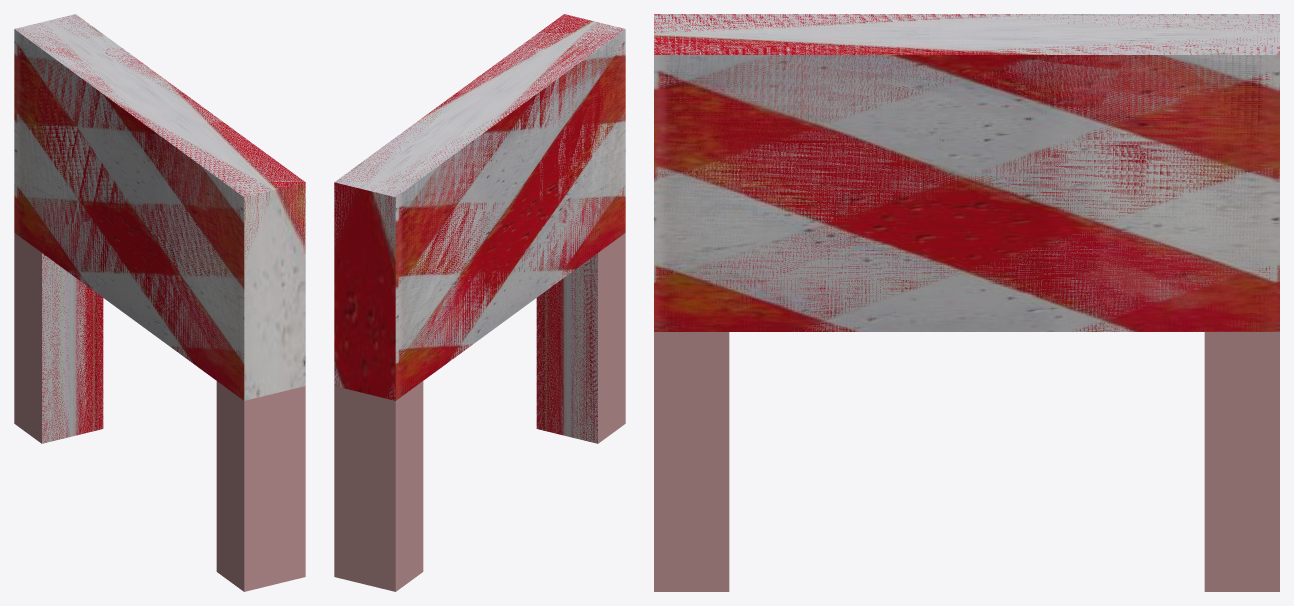
The model's file is slide_block.fbx.
The picture shows the model from 3 angles, left to right: view 1: azimuth 30°, elevation 25°; view 2: azimuth 150°, elevation 25°; view 3: azimuth 270°, elevation 25°; orthographic projection. The views are drawn at different scales.
Visible parts, largest first — view 1: Cube; view 2: Cube; view 3: Cube.
Part boxes in pixels (box(x1,y1,x2,y2)): Cube: box(14, 14, 305, 591); Cube: box(334, 14, 625, 591); Cube: box(654, 14, 1279, 591).
Size of the model in its own units: 63.24 by 388 by 409.
1 material, 1 textured.
